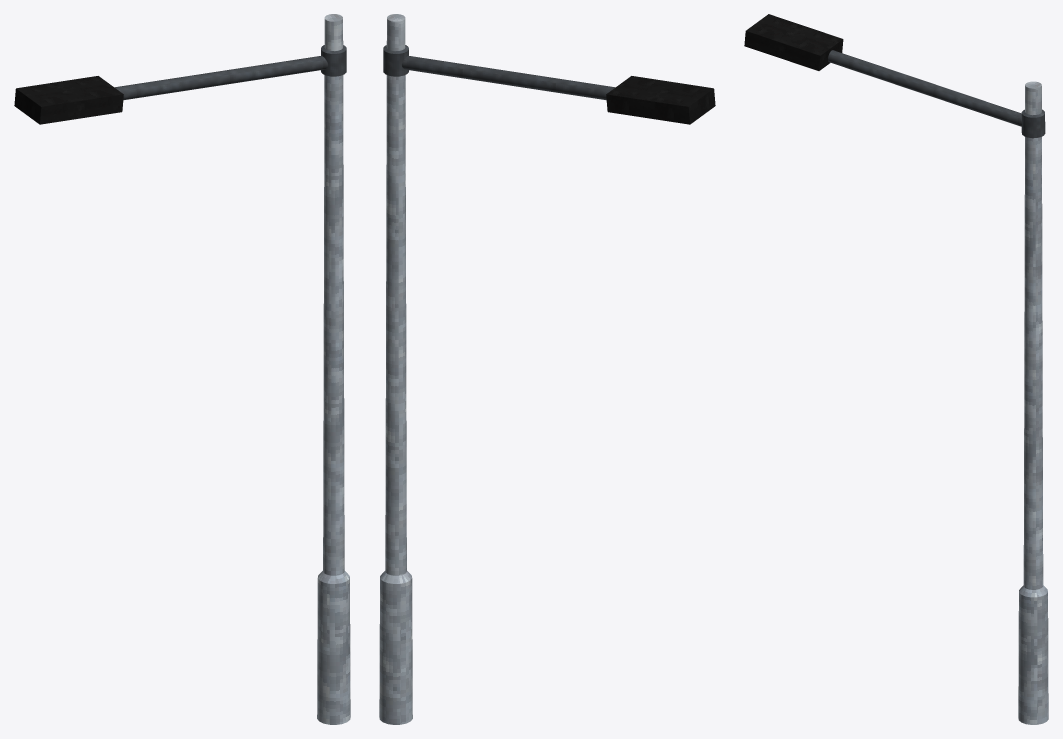
Rendered from modern_street_light_v_1.glb.
3 renders of one model, left to right at view 1: azimuth 30°, elevation 25°; view 2: azimuth 150°, elevation 25°; view 3: azimuth 330°, elevation 25°, orthographic. The views are drawn at different scales.
Visible parts, largest first — view 1: ModernStreetLamp, BlackBoxIdk; view 2: ModernStreetLamp, BlackBoxIdk; view 3: ModernStreetLamp, BlackBoxIdk.
Boxes of the visible parts, x1=… form: ModernStreetLamp: x1=114, y1=14, x2=350, y2=724; BlackBoxIdk: x1=14, y1=76, x2=123, y2=124; ModernStreetLamp: x1=379, y1=14, x2=615, y2=724; BlackBoxIdk: x1=606, y1=76, x2=715, y2=124; ModernStreetLamp: x1=828, y1=50, x2=1048, y2=724; BlackBoxIdk: x1=744, y1=14, x2=843, y2=70.
Bounding box in the file's own units: 1.07 × 2.23 × 0.1467.
Materials: 4 (3 with a texture image).
